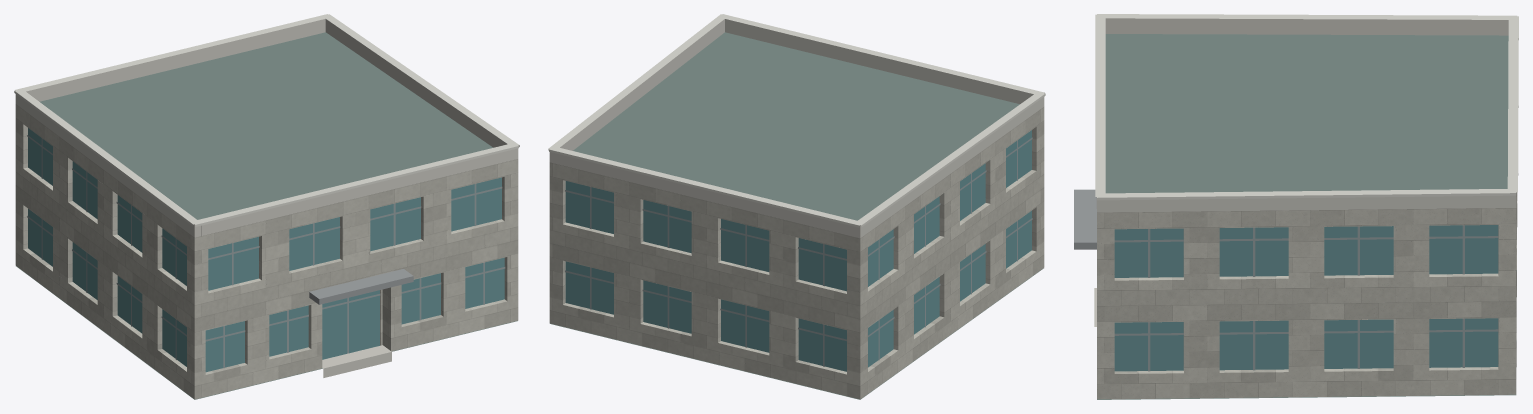
The picture shows the model from 3 angles, left to right: view 1: azimuth 30°, elevation 25°; view 2: azimuth 150°, elevation 25°; view 3: azimuth 270°, elevation 25°; orthographic projection. The views are drawn at different scales.
Visible parts, largest first — view 1: annex60__wall, annex60__roof, annex60__glass, annex60__parapet, annex60__trim, annex60__frame, annex60__canopy, annex60__entranceThreshold; view 2: annex60__wall, annex60__roof, annex60__glass, annex60__parapet, annex60__trim, annex60__frame; view 3: annex60__roof, annex60__wall, annex60__glass, annex60__parapet, annex60__trim, annex60__frame, annex60__canopy.
Part boxes in pixels (left/top/right/bottom): annex60__wall: left=15, top=104, right=518, bottom=399; annex60__roof: left=16, top=32, right=517, bottom=399; annex60__glass: left=28, top=128, right=504, bottom=372; annex60__parapet: left=15, top=19, right=518, bottom=237; annex60__trim: left=14, top=14, right=519, bottom=226; annex60__frame: left=27, top=135, right=505, bottom=368; annex60__canopy: left=309, top=269, right=413, bottom=304; annex60__entranceThreshold: left=322, top=345, right=391, bottom=377; annex60__wall: left=549, top=107, right=1044, bottom=399; annex60__roof: left=550, top=32, right=1043, bottom=399; annex60__glass: left=565, top=130, right=1031, bottom=371; annex60__parapet: left=549, top=19, right=1044, bottom=238; annex60__trim: left=548, top=14, right=1045, bottom=227; annex60__frame: left=565, top=137, right=1032, bottom=366; annex60__roof: left=1097, top=34, right=1516, bottom=399; annex60__wall: left=1097, top=192, right=1517, bottom=399; annex60__glass: left=1114, top=225, right=1498, bottom=371; annex60__parapet: left=1096, top=18, right=1516, bottom=212; annex60__trim: left=1095, top=14, right=1518, bottom=200; annex60__frame: left=1114, top=225, right=1498, bottom=371; annex60__canopy: left=1074, top=189, right=1096, bottom=249.
Size of the model in its own units: 15.2 by 8.2 by 15.54.
9 materials, 1 textured.
